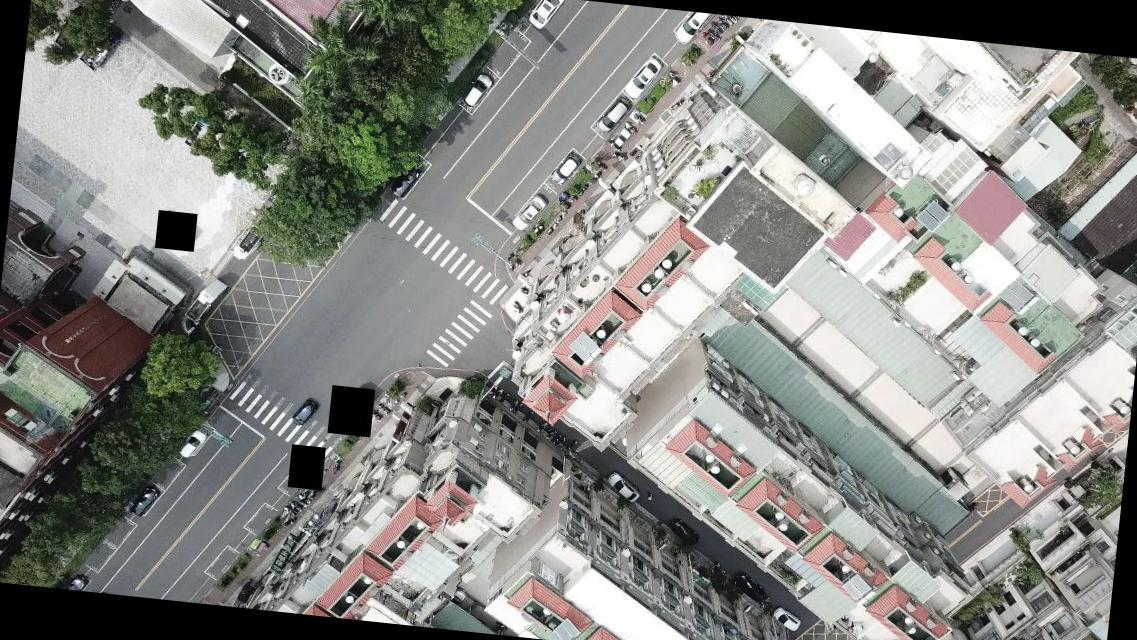vehicle: (623, 54, 663, 102), (595, 93, 633, 135), (671, 11, 714, 48), (525, 0, 569, 34), (510, 192, 547, 232), (548, 150, 584, 188), (604, 469, 642, 503), (460, 72, 494, 110), (732, 572, 768, 602), (666, 518, 703, 547), (389, 167, 421, 200), (128, 485, 159, 519), (178, 428, 208, 460), (290, 397, 320, 428), (770, 606, 802, 632), (66, 574, 90, 590)
